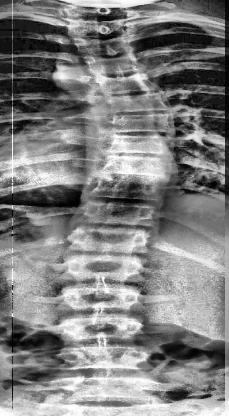Vertebrae: (55, 371, 155, 405), (57, 344, 150, 375), (66, 224, 150, 256), (76, 196, 158, 228), (58, 314, 143, 344), (85, 174, 167, 204), (63, 254, 146, 283), (60, 286, 144, 314), (102, 152, 172, 182), (100, 131, 173, 157), (102, 89, 172, 115), (104, 112, 173, 134), (82, 51, 146, 74), (71, 33, 137, 55), (93, 72, 159, 94), (63, 16, 130, 36), (63, 2, 130, 20)
